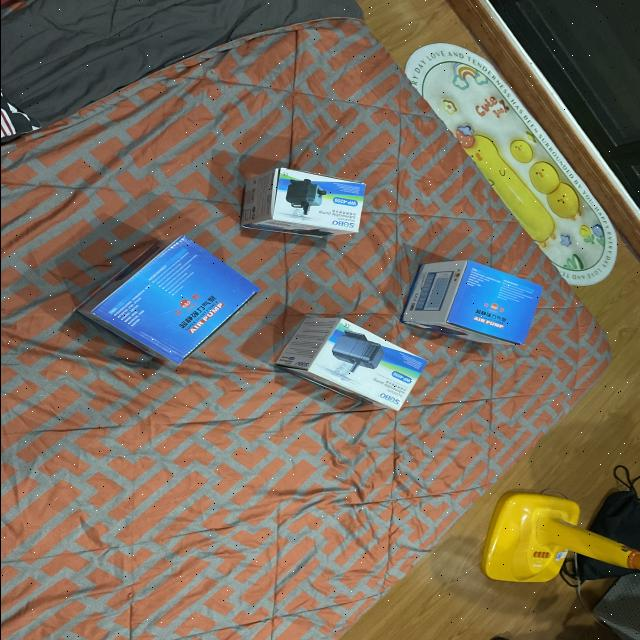SOBO_WP_4200: (258, 305, 424, 429), (230, 158, 376, 248)
YAMANO_LPP_20: (55, 232, 252, 378), (404, 246, 554, 354)
